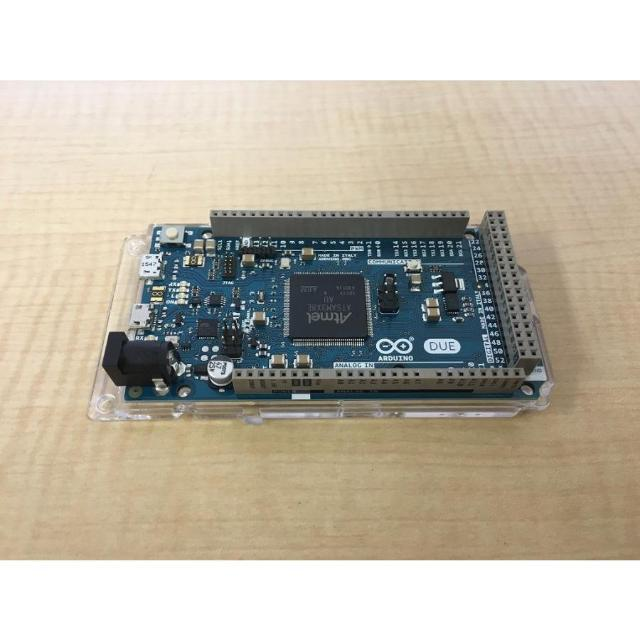Arduino-Due: (91, 211, 553, 422)
